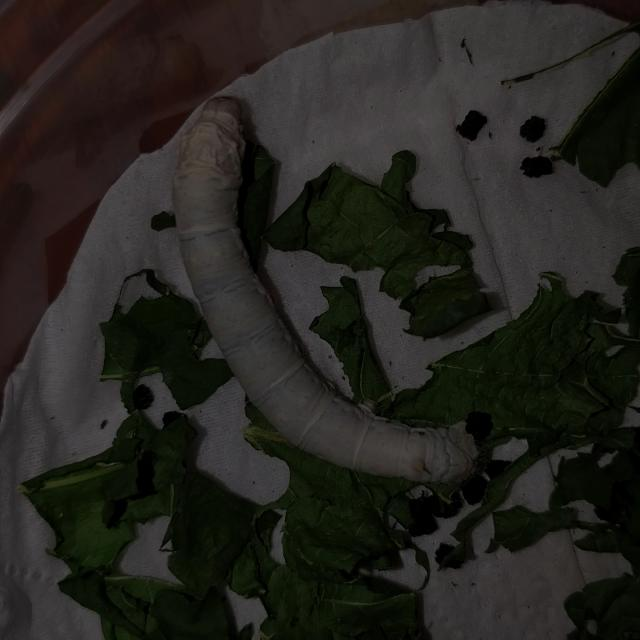Healthy: (158, 89, 503, 497)
